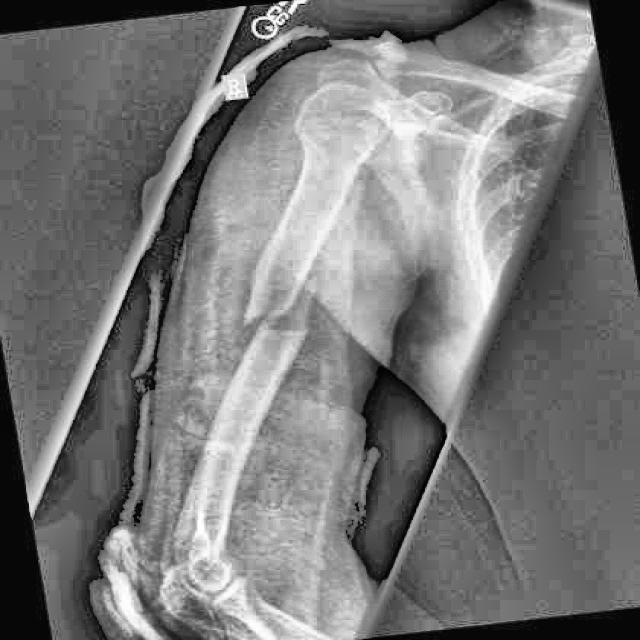humerus: (197, 265, 337, 429)
